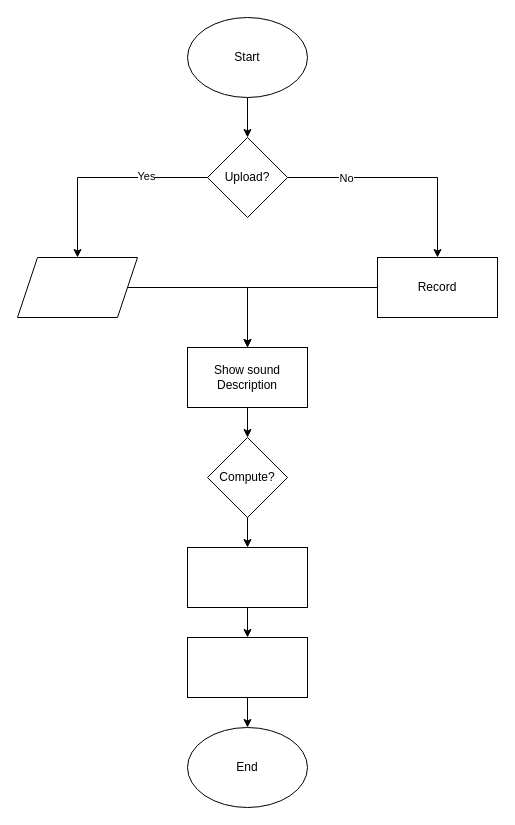
Image size: 515x825. Some labels were removed from this diagram. The box of each missing label's shape, as (x1, y1, x2, y2) in pixels:
Analyze Sound with Audio Classification Model: (186, 546, 308, 608)
Show Result: (186, 636, 308, 698)
Upload Sound: (16, 256, 138, 318)
